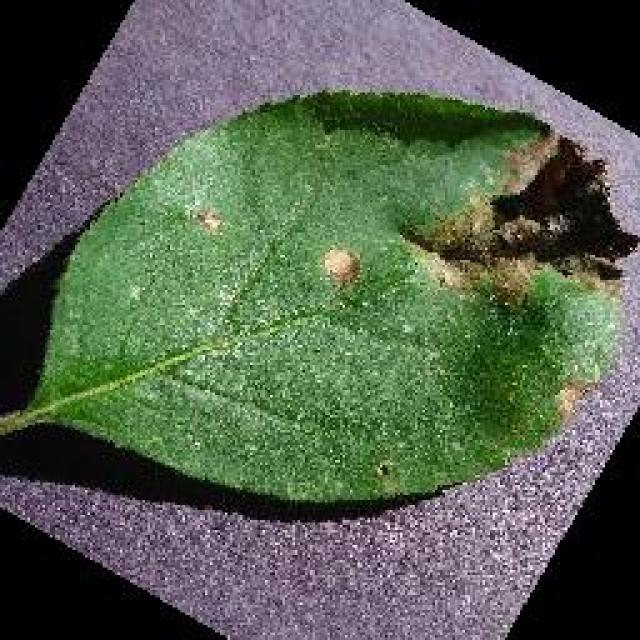apple black rot: (7, 85, 635, 510)
